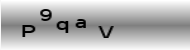9: (39, 7, 52, 21)
P: (21, 23, 36, 37)
V: (97, 24, 114, 38)
a: (75, 17, 87, 29)
q: (56, 19, 69, 33)
